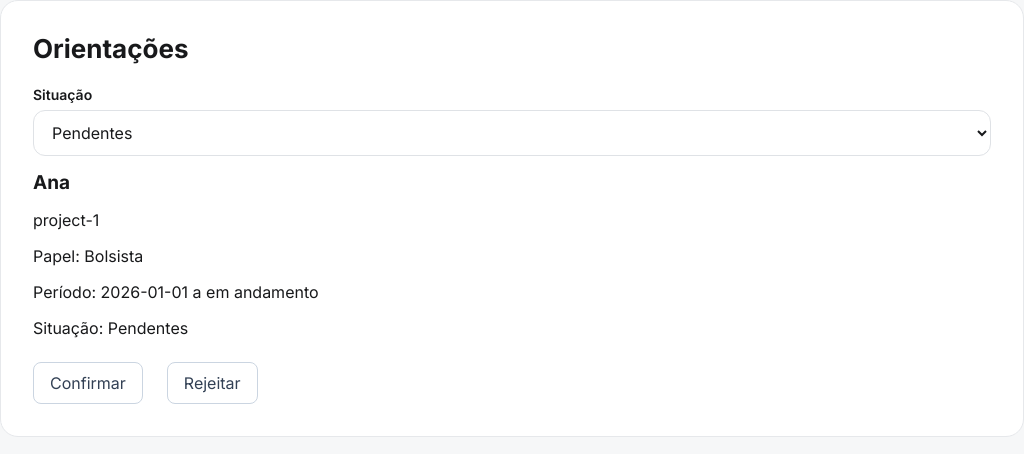
Test case: informa conflito e atualiza a lista
Click the button "Rejeitar": [212, 383] box [167,362,258,404]
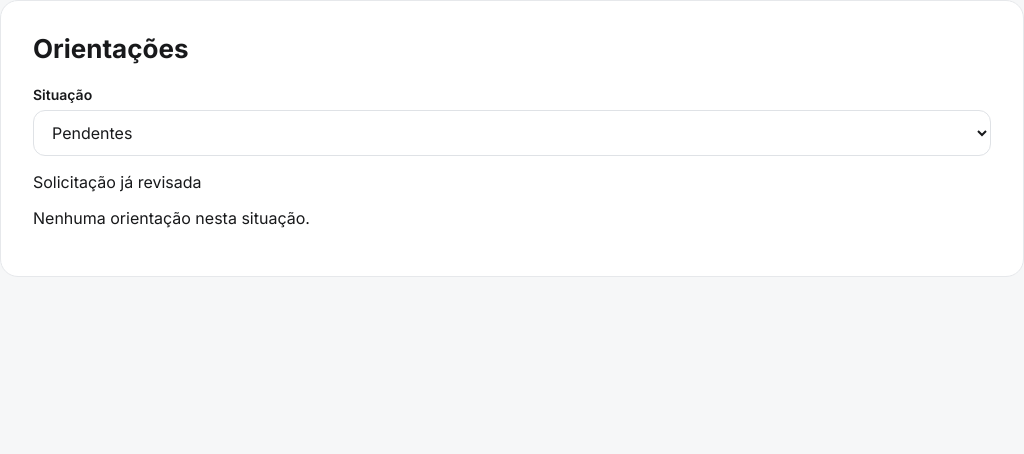
Result: the text "Nenhuma orientação nesta situação." is shown at [33,208,310,228]
Result: the text "Solicitação já revisada" is shown at [33,172,202,192]
